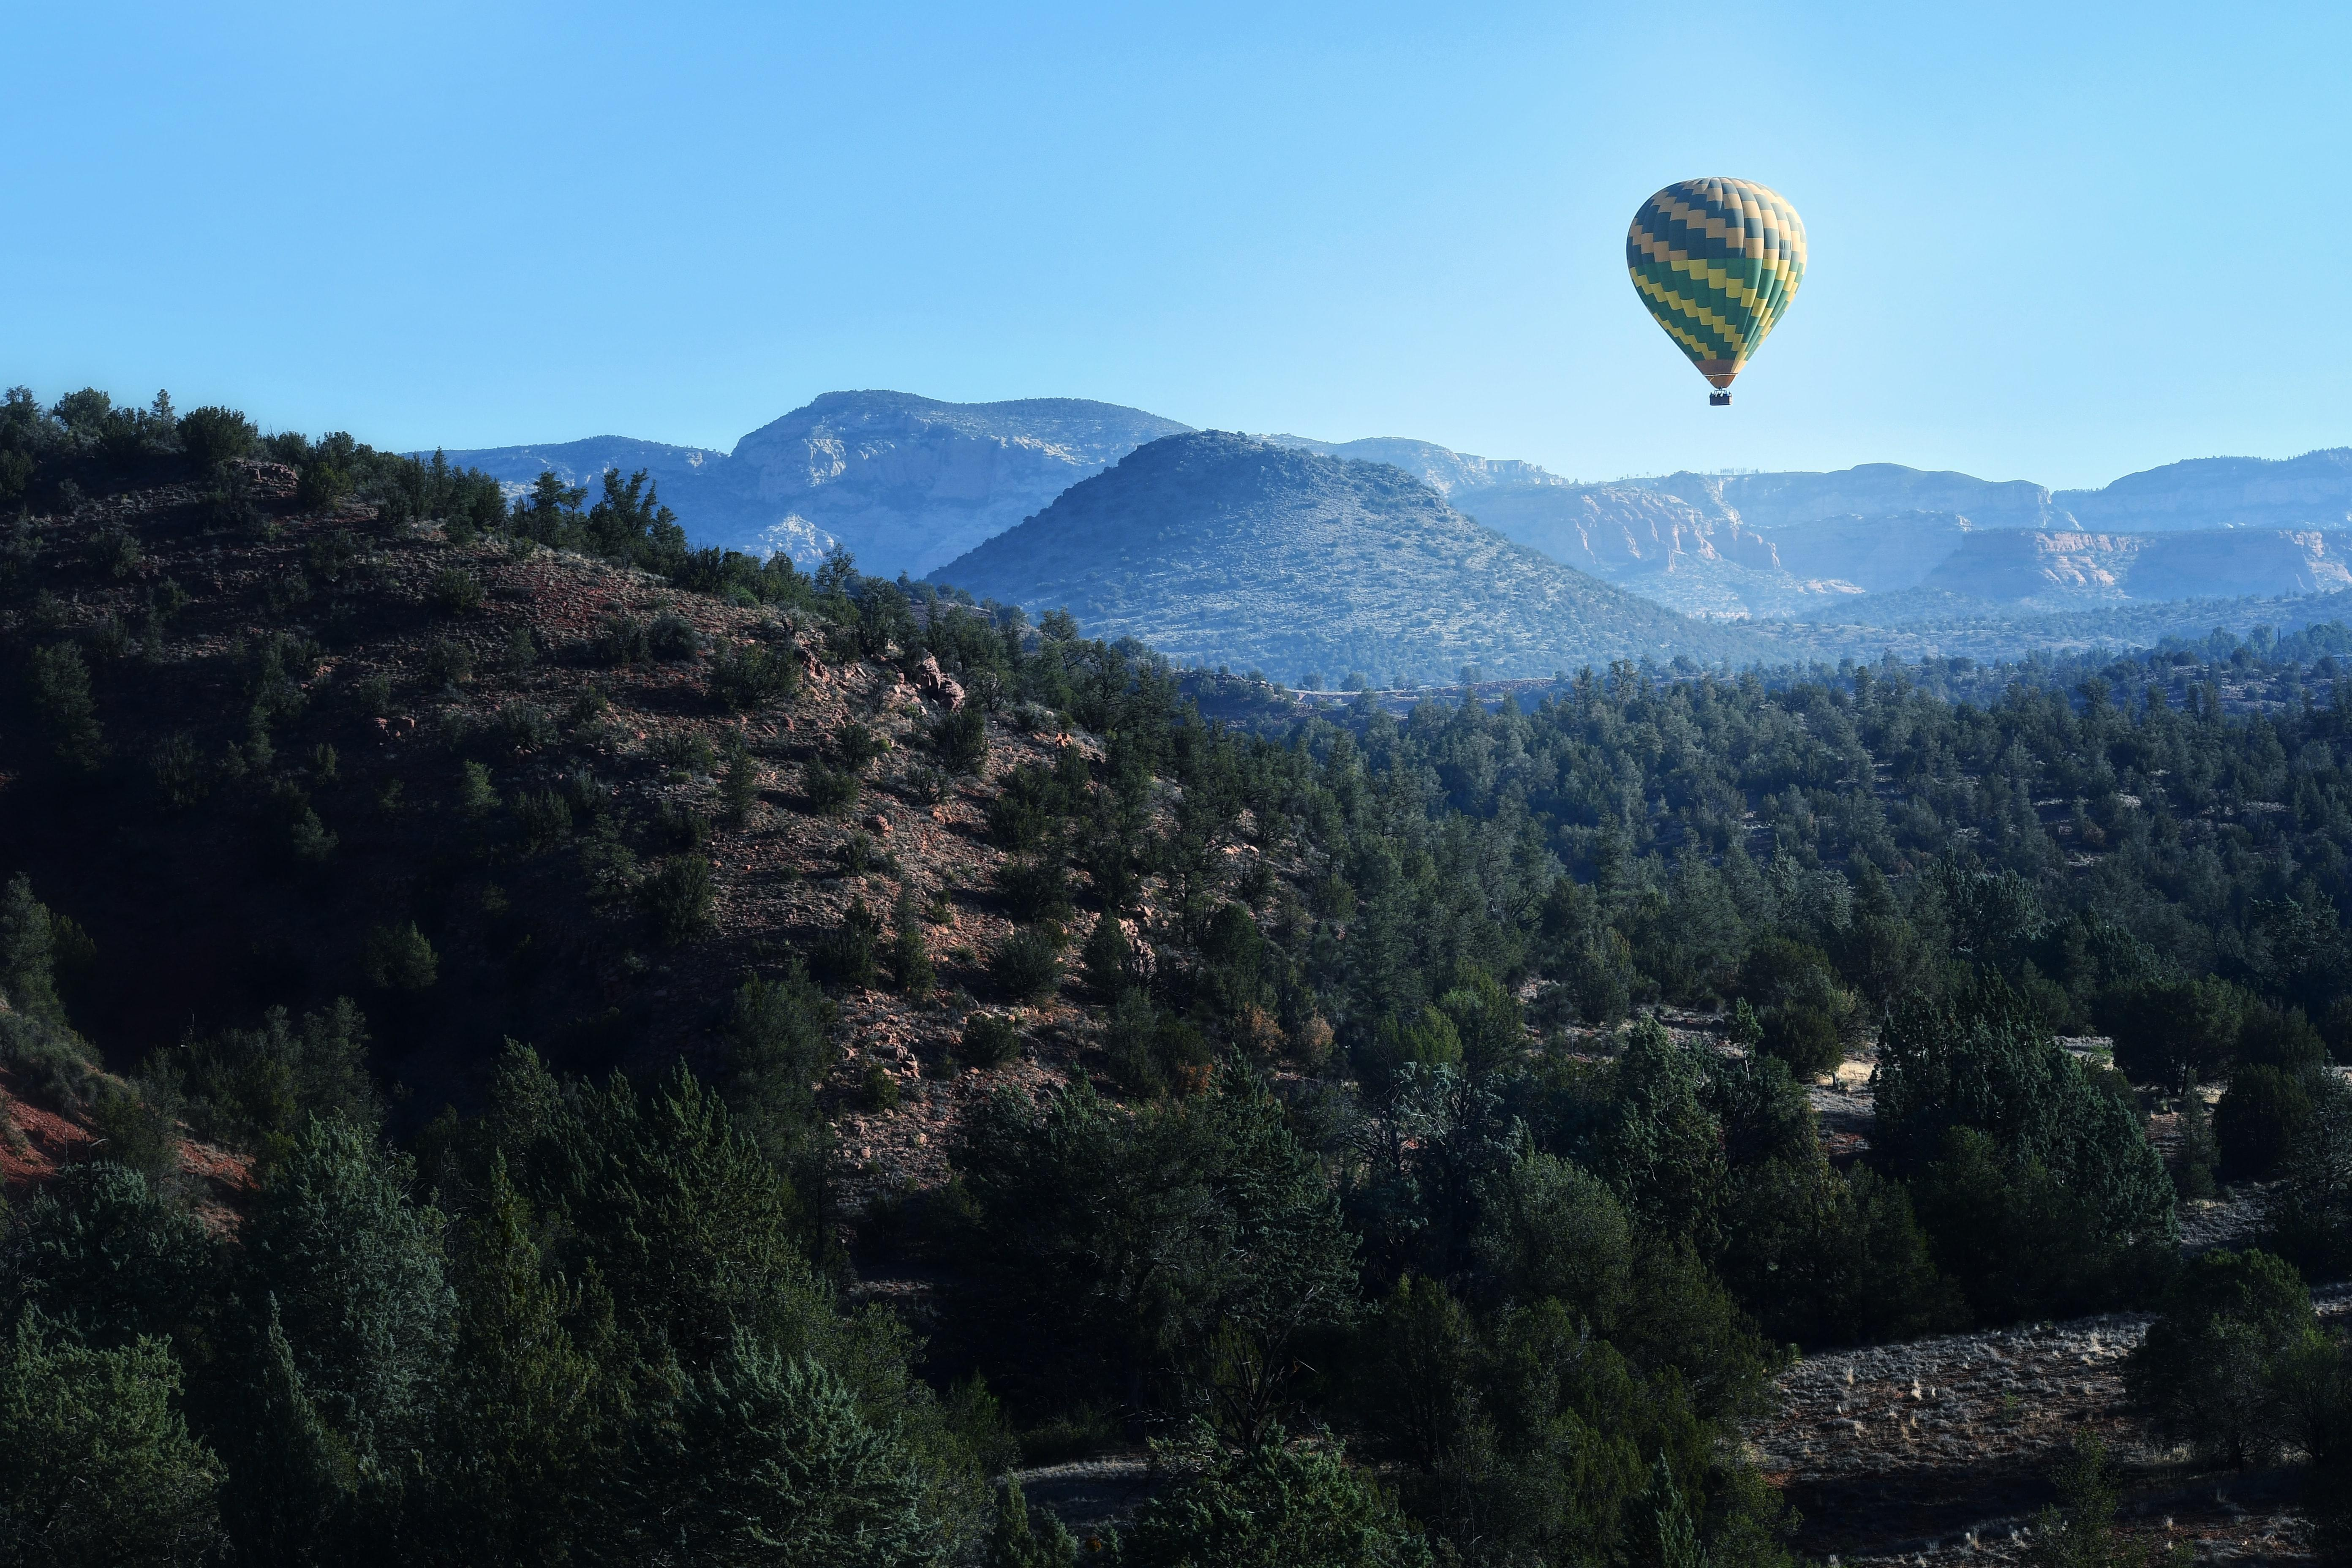hot air ballon: (1624, 177, 1808, 406)
